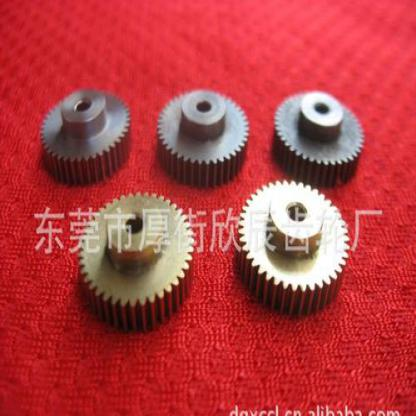FOD: (75, 189, 199, 335), (234, 176, 352, 322), (39, 83, 137, 188), (270, 87, 366, 190), (155, 85, 251, 187)
